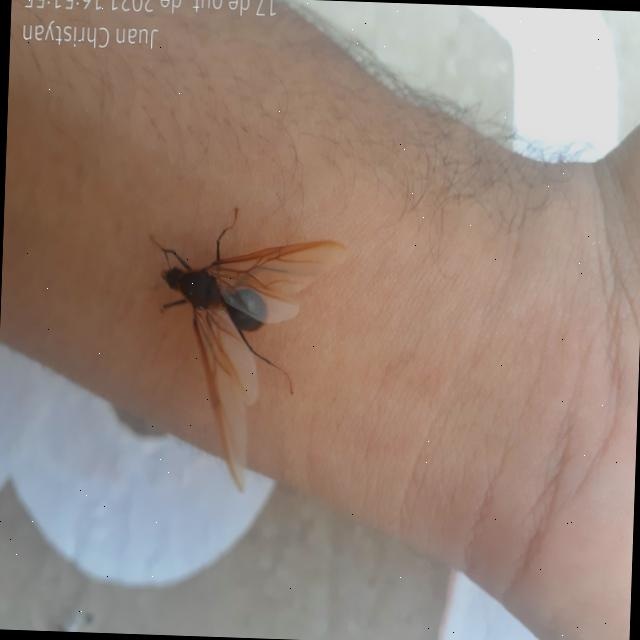Alive-Male-Alate: (138, 204, 348, 496)
